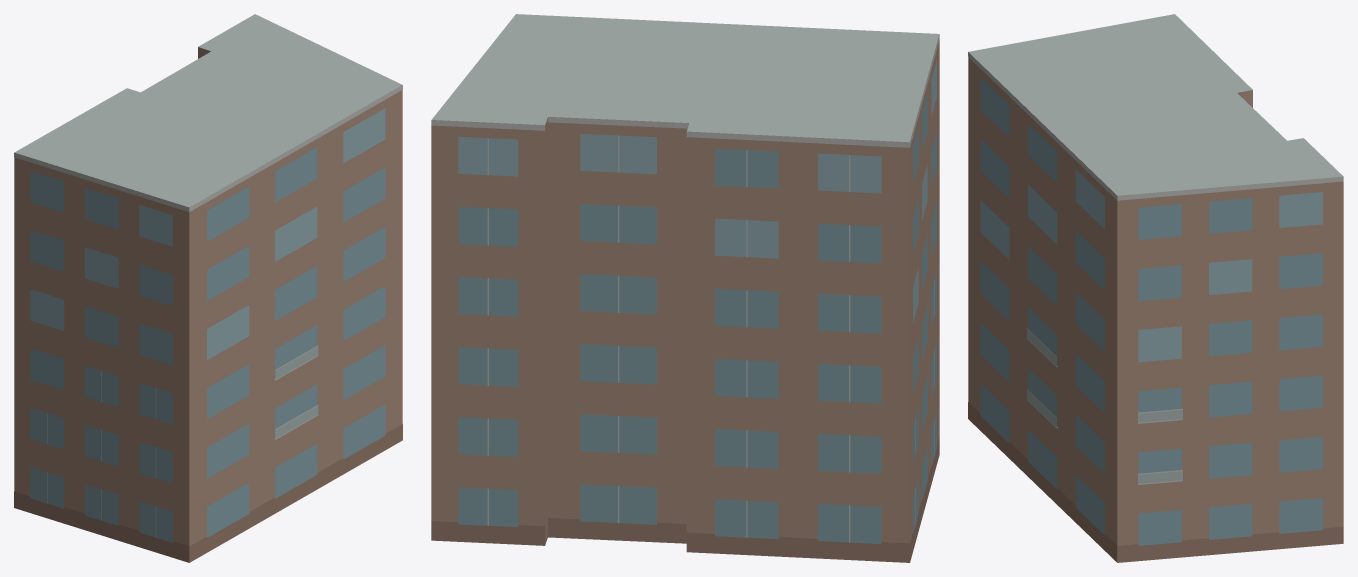
Rendered from survey-upis-32714236.glb.
3 renders of one model, left to right at view 1: azimuth 30°, elevation 25°; view 2: azimuth 150°, elevation 25°; view 3: azimuth 270°, elevation 25°, orthographic. The views are drawn at different scales.
Parts seen in each view (by area): view 1: survey-upis-32714236.tmp; view 2: survey-upis-32714236.tmp; view 3: survey-upis-32714236.tmp.
Part boxes in pixels (x1,y1,x2,y2): survey-upis-32714236.tmp: [14, 14, 402, 562]; survey-upis-32714236.tmp: [431, 14, 939, 562]; survey-upis-32714236.tmp: [968, 14, 1343, 562].
Size of the model in its own units: 19.45 by 18.3 by 16.98.
